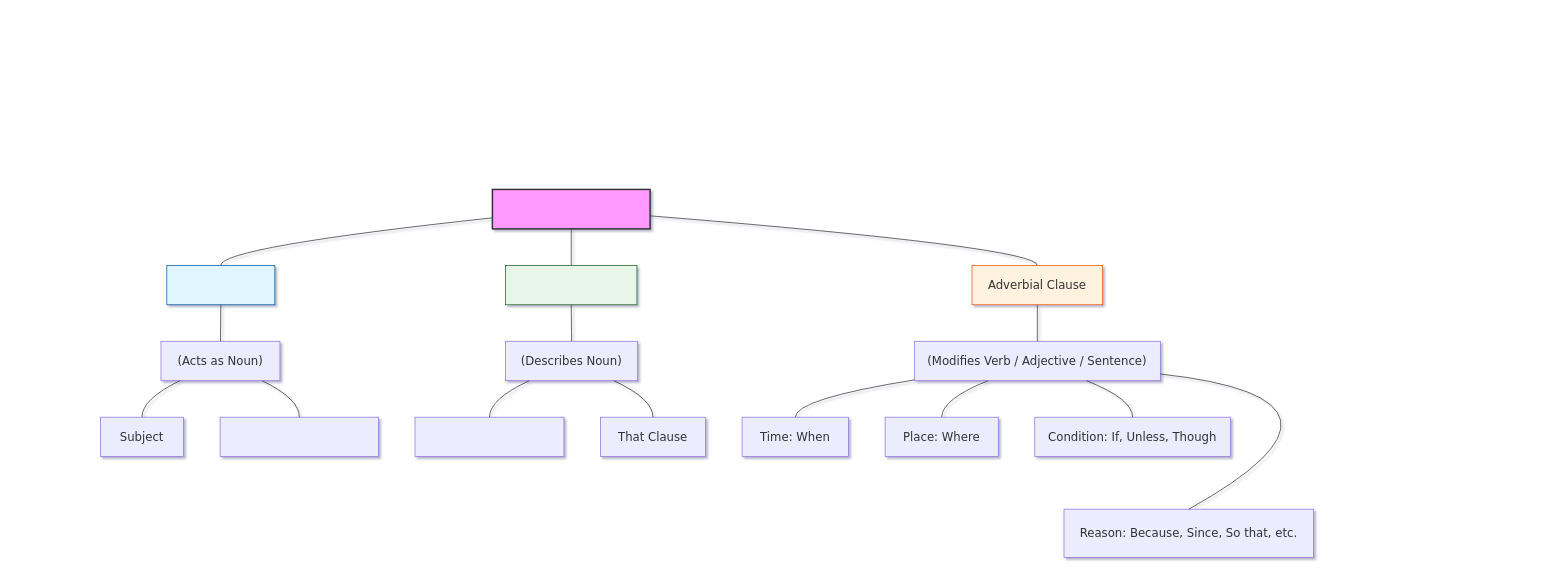
This 1548x575 diagram has some shape labels left out. Here are the shapes that lost their labels. From the top down, the box of each, then its label:
(491, 188, 650, 229): SUBORDINATE CLAUSE
(166, 265, 275, 305): Noun Clause
(505, 265, 637, 305): Adjective Clause
(219, 416, 379, 457): Object / Complement
(414, 416, 564, 457): Who / Which Clause
